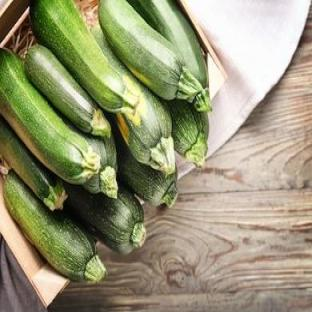Zucchini: (0, 50, 99, 183), (92, 26, 175, 173), (4, 172, 106, 281), (25, 45, 111, 136), (0, 117, 67, 211), (66, 185, 146, 253), (116, 134, 178, 207), (169, 101, 208, 166), (84, 136, 118, 197)
